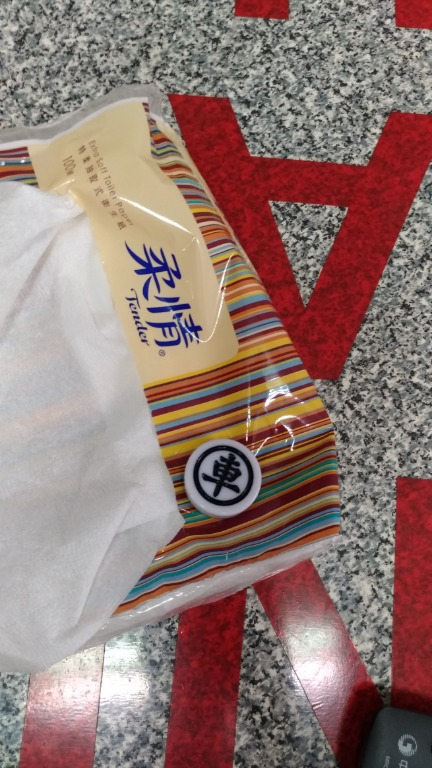b-king: (175, 431, 270, 530)
